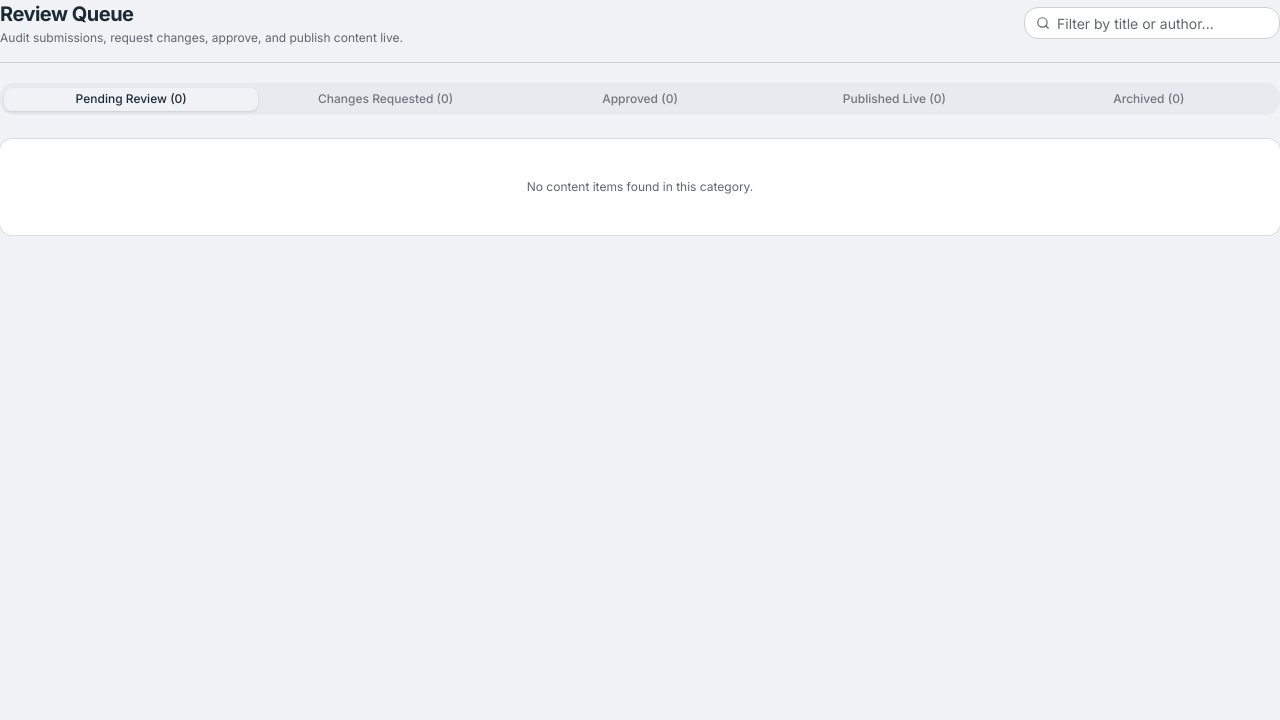
Test: AdminReviewQueue Component Suite › inspects SQL sandbox schema, sample data, and expected query results
Press the mouse on the tab "Approved (0)" at (640, 99), box [513,88,767,110]
Press Enter in the tab "Approved (0)", box [513,88,767,110]
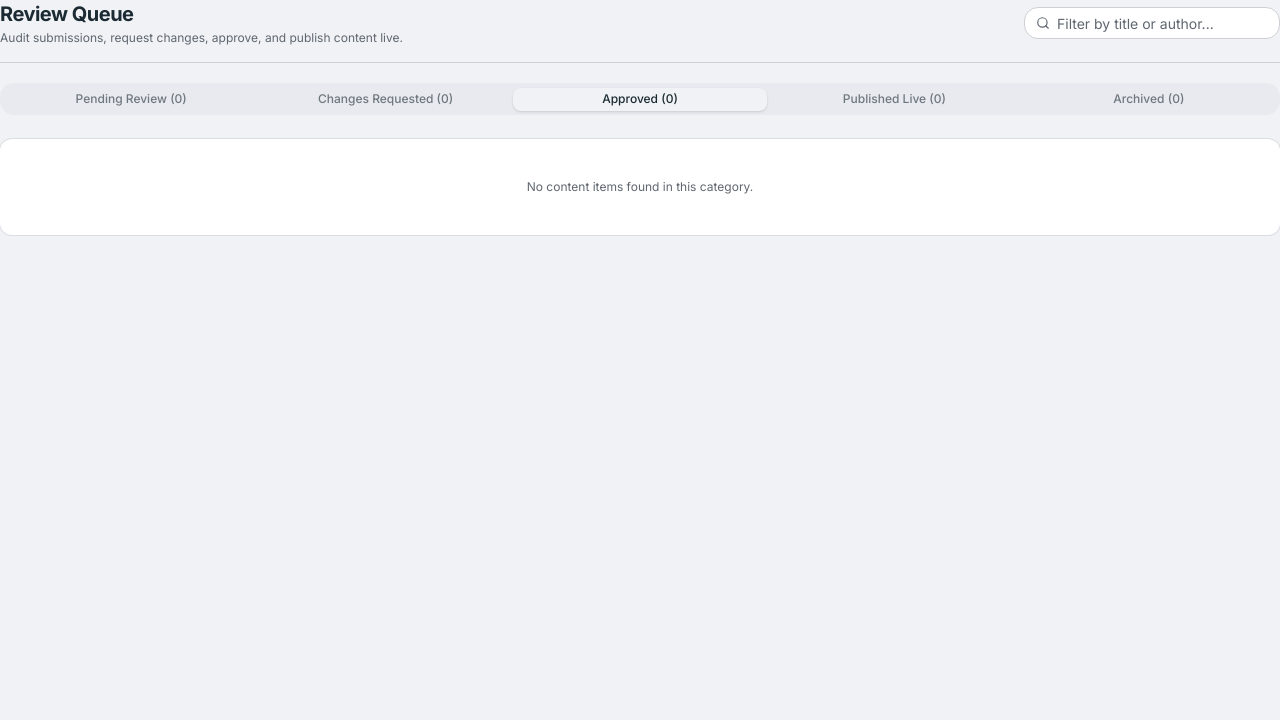
Click the tab "Approved (0)" at (640, 99), box [513,88,767,110]
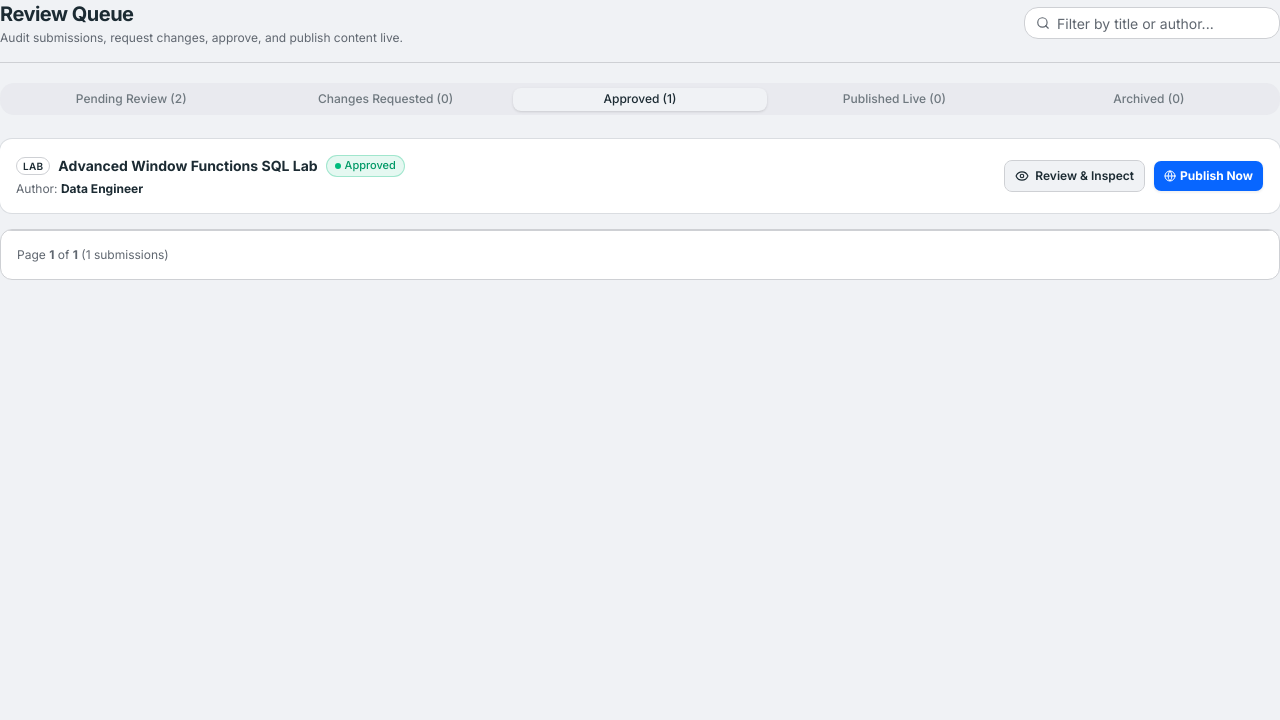
Check: the heading "Advanced Window Functions SQL Lab" is shown, box [58,156,318,176]
Click the button "Review & Inspect" at (1075, 176), box [1004,160,1145,192]
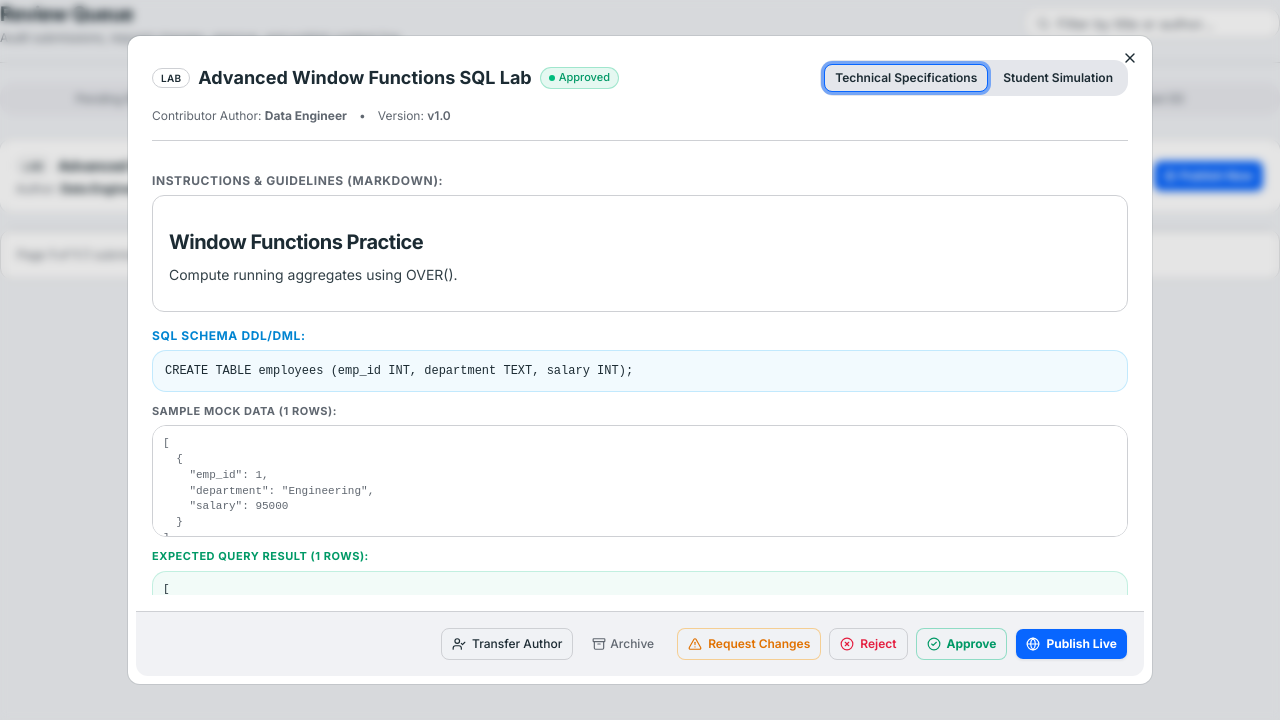
Check: the text "CREATE TABLE employees" is shown, box [165,364,633,378]
Check: the heading "Sample Mock Data (1 Rows):" is shown, box [152,404,337,420]
Check: the heading "Expected Query Result (1 Rows):" is shown, box [152,550,369,565]
